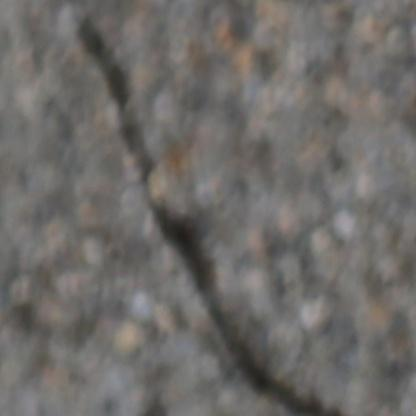Cracks: (148, 200, 391, 416), (74, 11, 161, 189)
